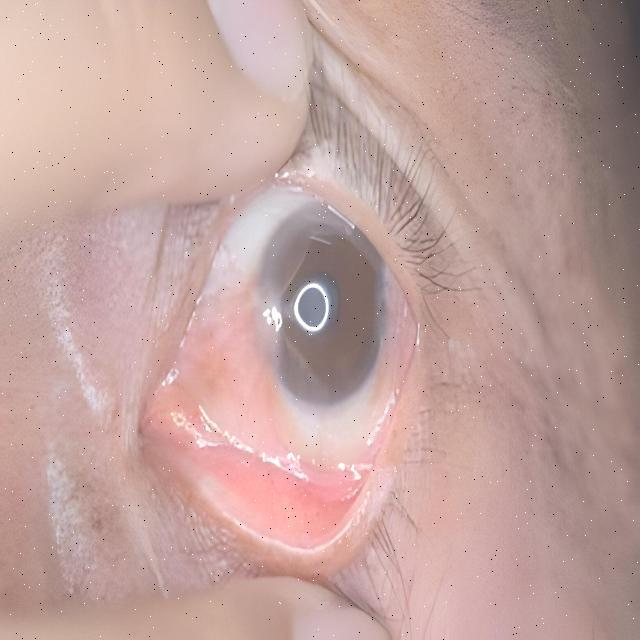Pterygium: (183, 255, 314, 438)
